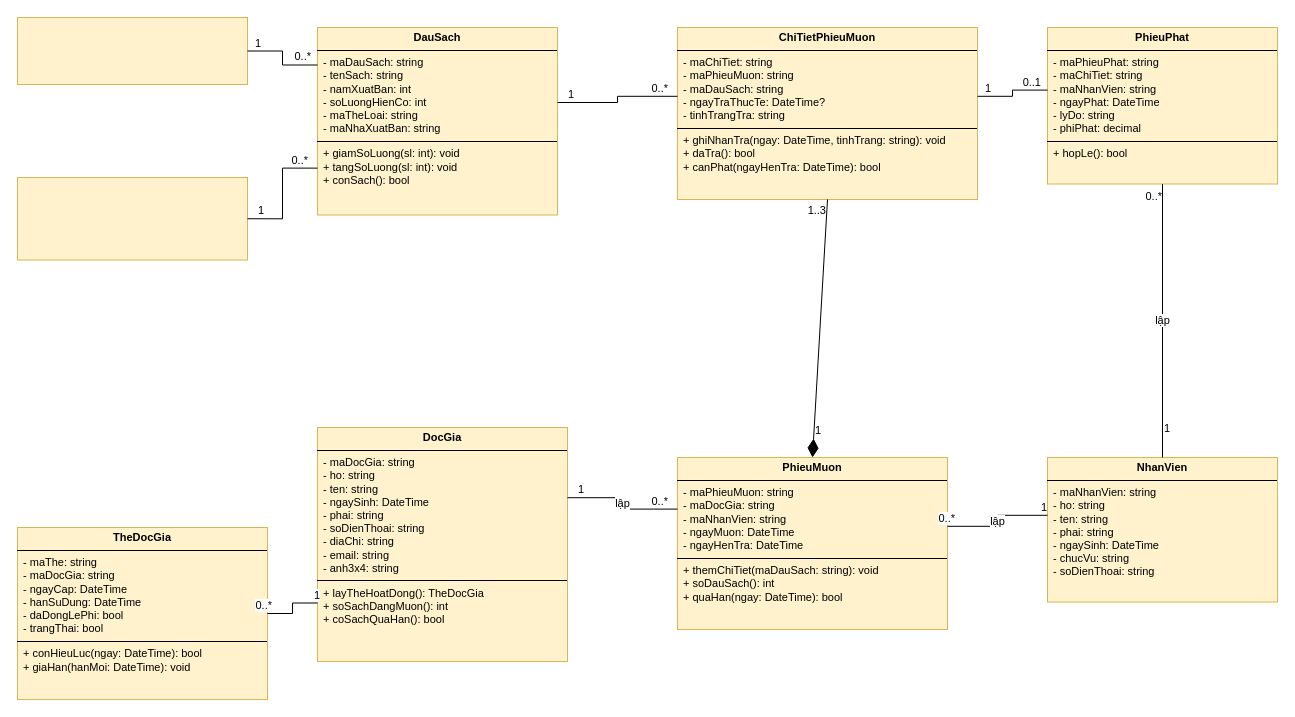
Some shapes in this 1295 by 717 pixel diagram are drawn without their labels. Each missing label, with the centre of its shape:
"NhaXuatBan - maNhaXuatBan: string - diaChi: string - soDienThoai: string" goes at pixel 132 218.
"TheLoai - maTheLoai: string - tenTheLoai: string" goes at pixel 132 50.
